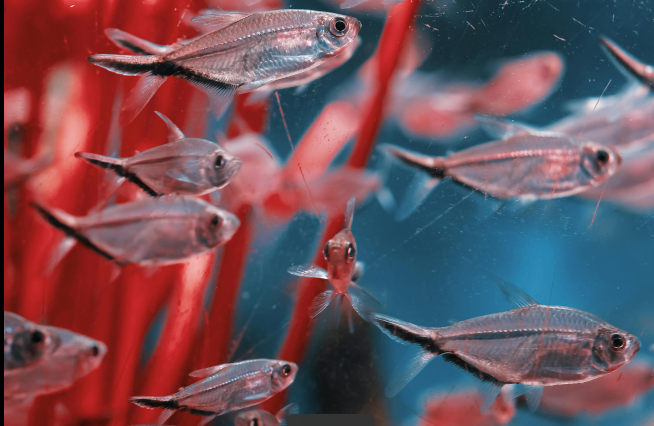fishSmall: (369, 274, 641, 414), (376, 111, 623, 223), (88, 45, 351, 127), (47, 191, 241, 282), (82, 110, 243, 213), (286, 196, 385, 322), (126, 357, 299, 425), (2, 309, 107, 408), (232, 402, 298, 426)
